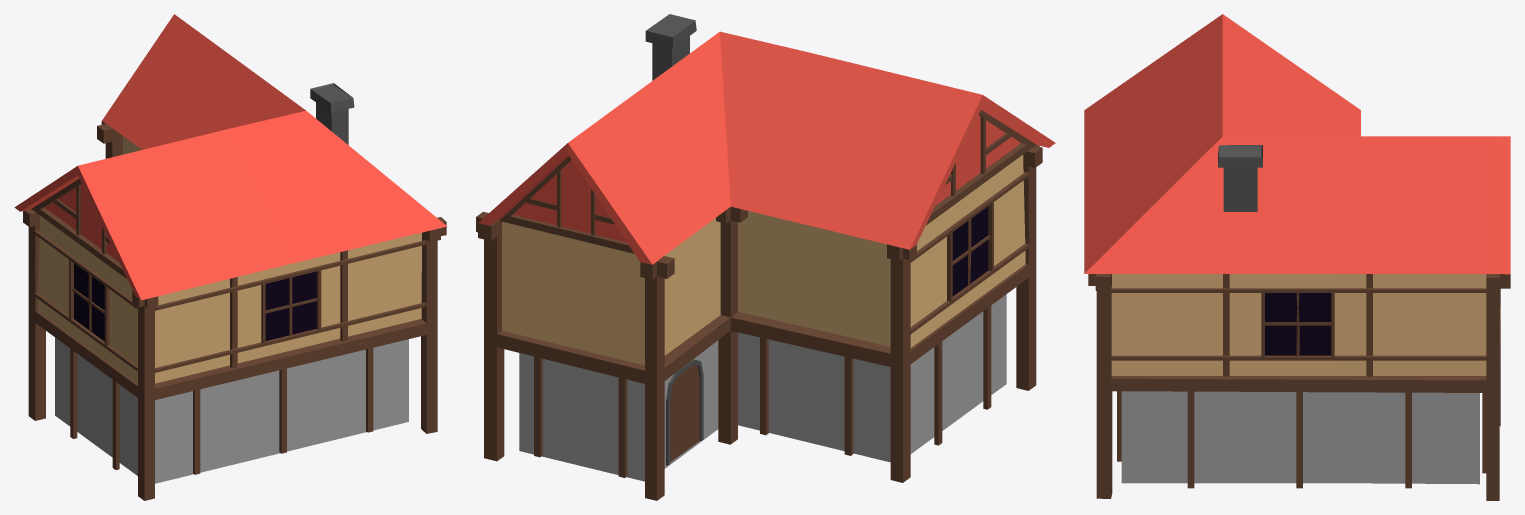
File: House_large.fbx
The picture shows the model from 3 angles, left to right: view 1: azimuth 30°, elevation 25°; view 2: azimuth 150°, elevation 25°; view 3: azimuth 270°, elevation 25°; orthographic projection. The views are drawn at different scales.
Parts seen in each view (by area): view 1: House_large; view 2: House_large; view 3: House_large.
Boxes of the visible parts, left/top/right/bottom form: House_large: left=14, top=14, right=447, bottom=500; House_large: left=476, top=14, right=1055, bottom=500; House_large: left=1084, top=14, right=1510, bottom=500.
Bounding box in the file's own units: 48.2 × 44.07 × 52.14.
